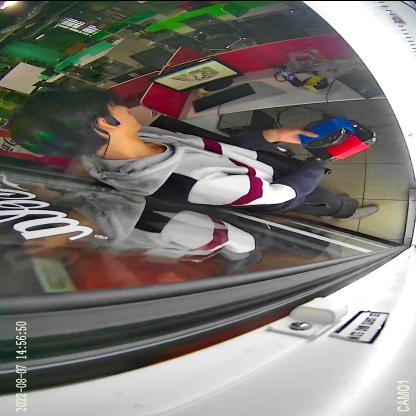blue: (298, 116, 356, 146)
red: (304, 118, 378, 160)
